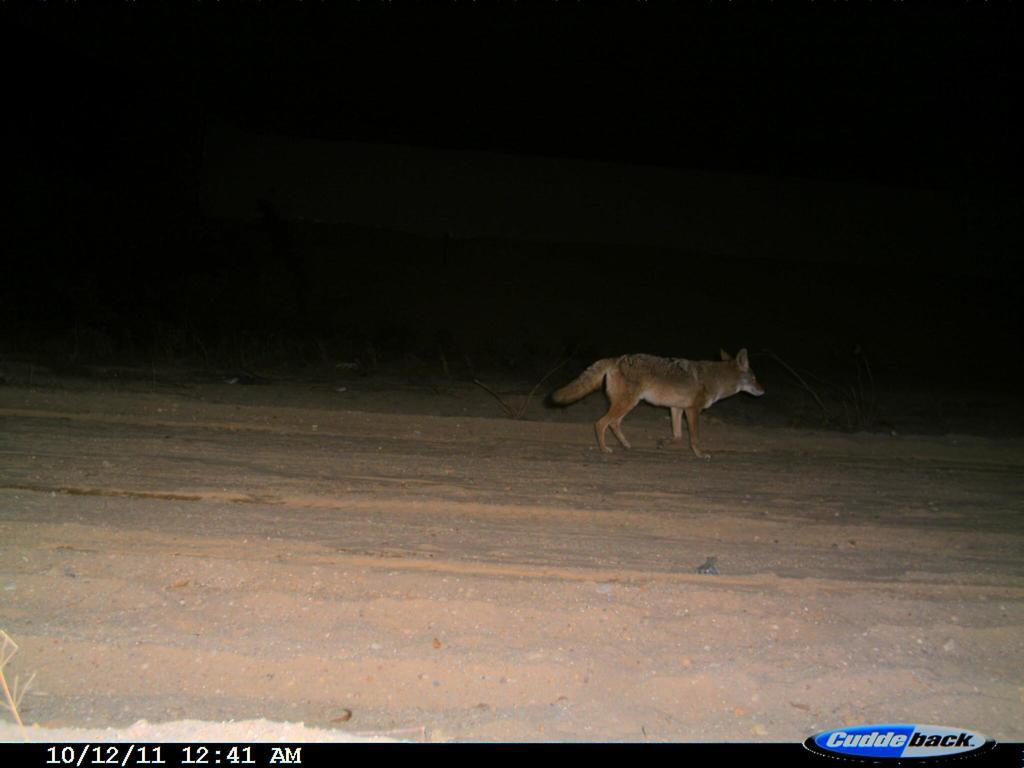coyote: (550, 336, 771, 466)
